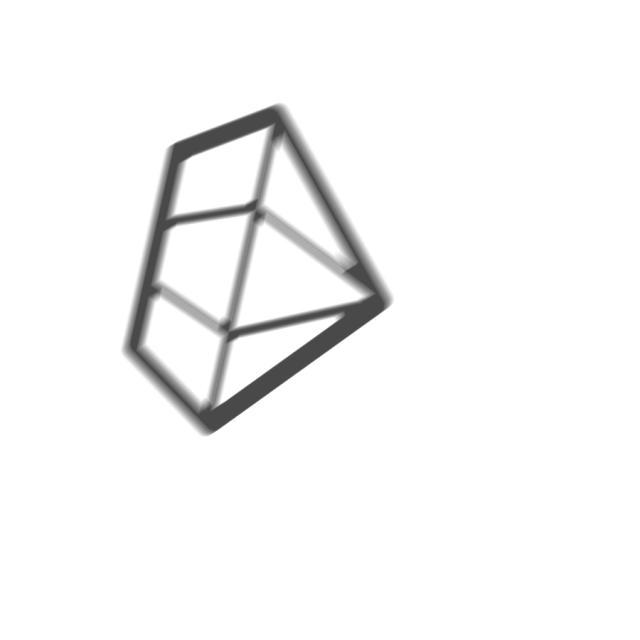diamond: (116, 97, 402, 443)
